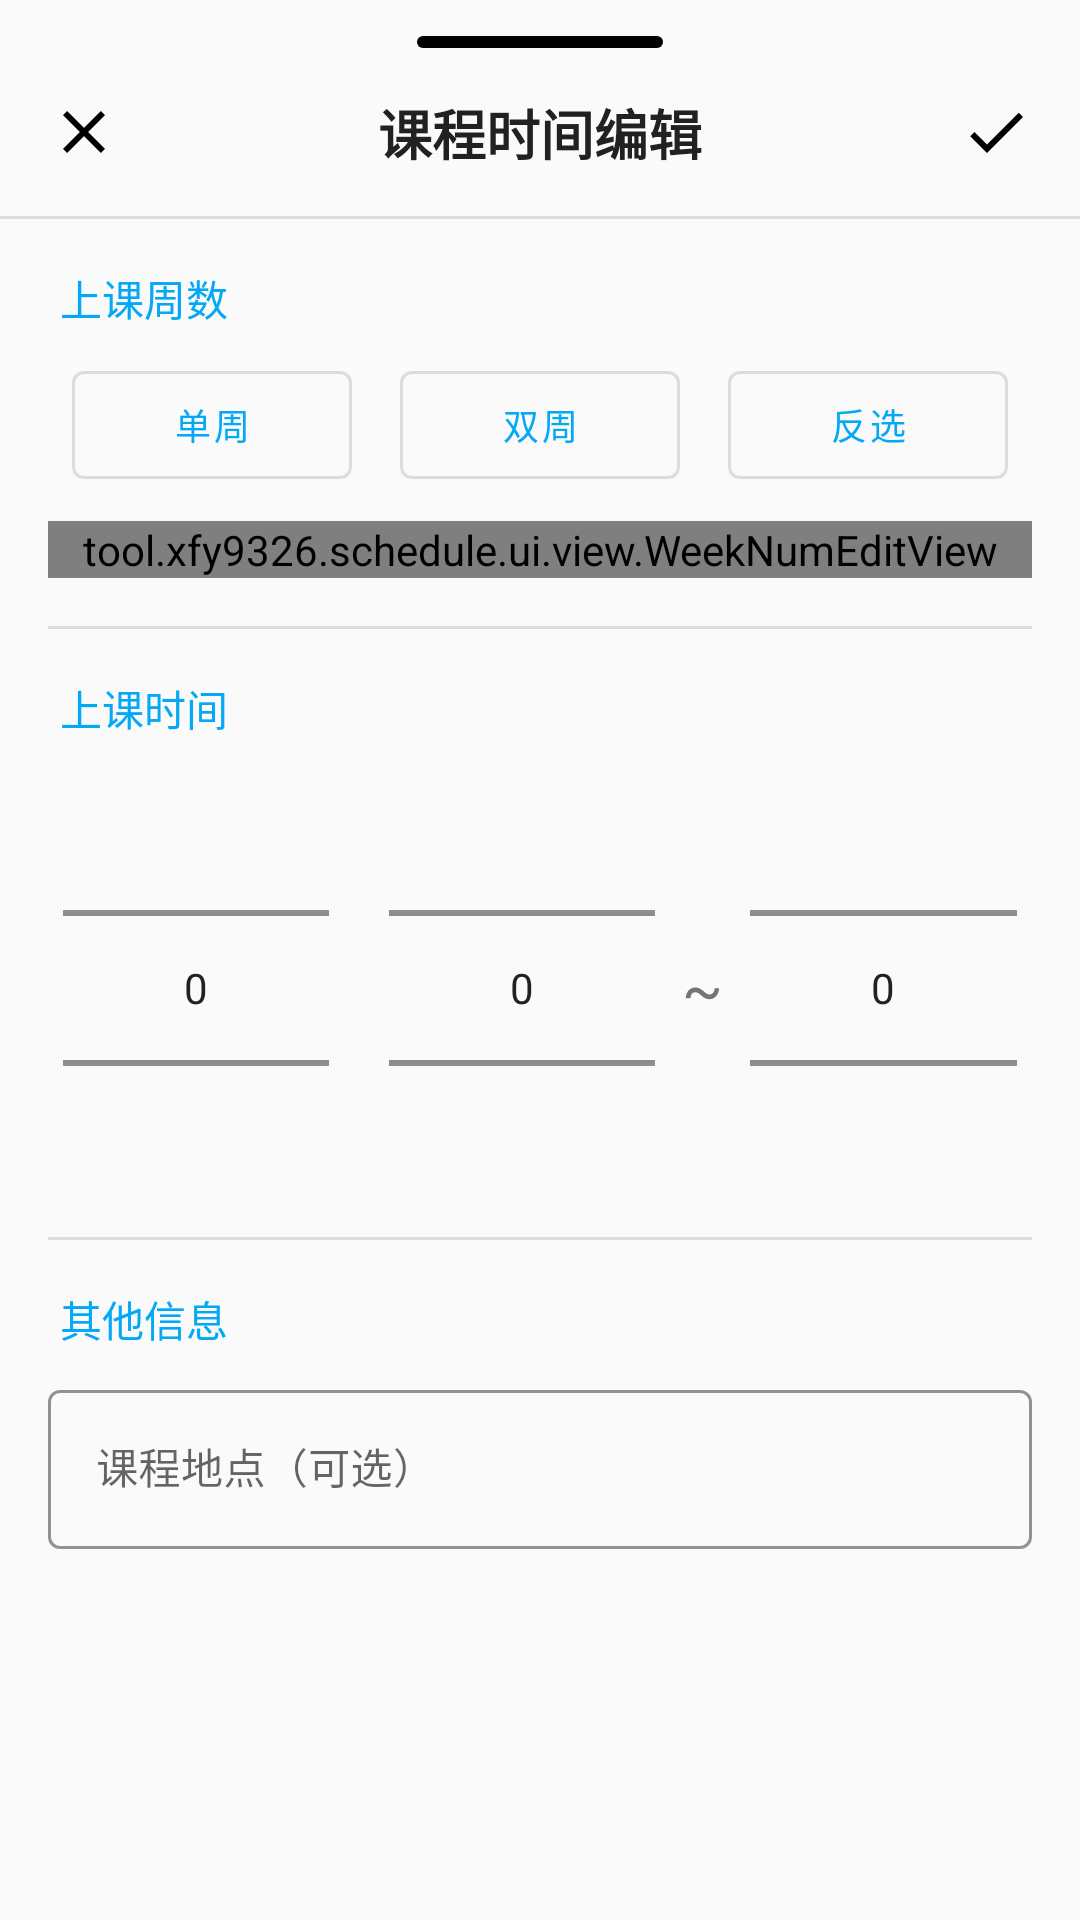

Icon click points for this 1080 x 1920 phone screenshot, format (x,y):
check: (996,133)
close: (84,132)
